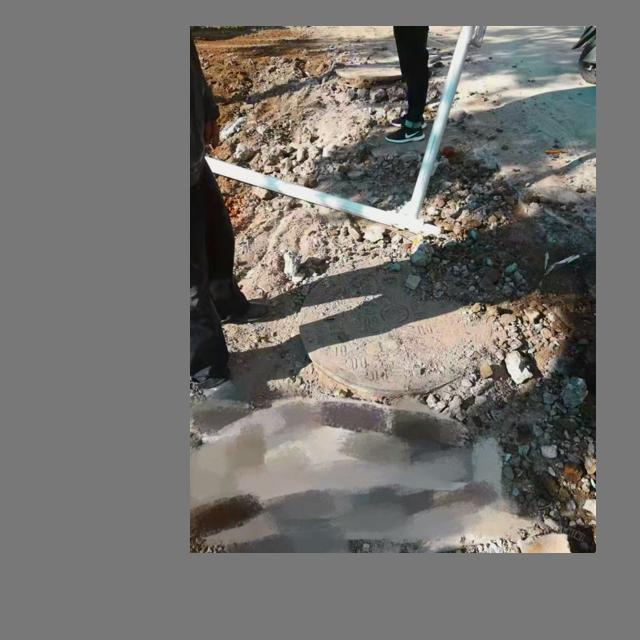circle: (273, 255, 529, 422)
